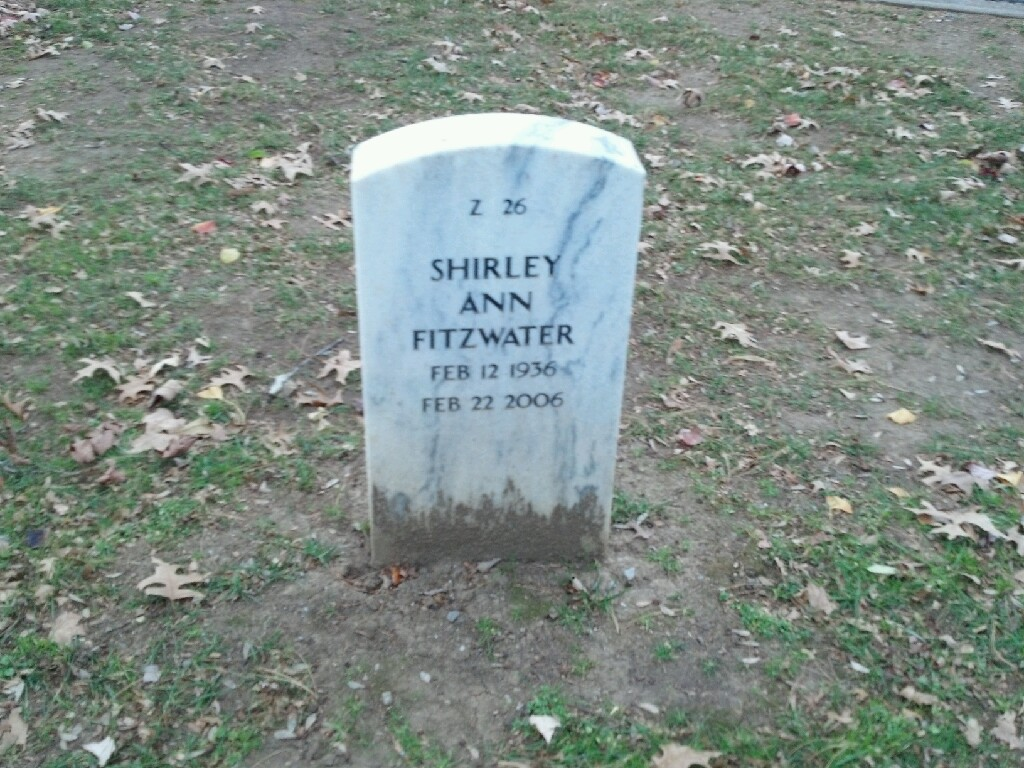military: (343, 117, 648, 592)
